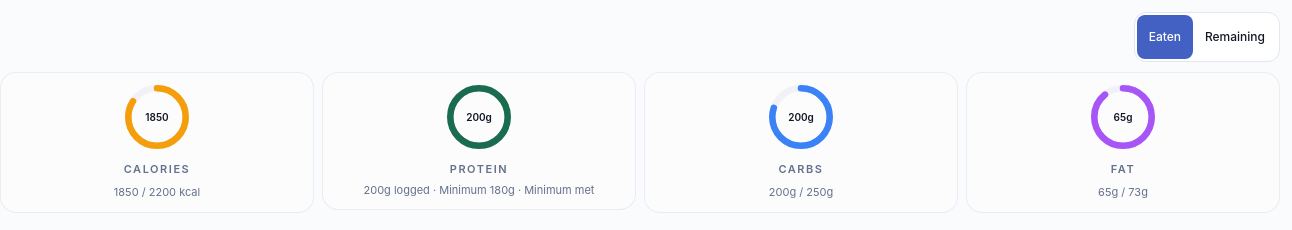
Test: MacroRings › keeps protein neutral at and above its floor
Click the button "Remaining" at [1235, 37], box x1=1193 y1=15 x2=1277 y2=59
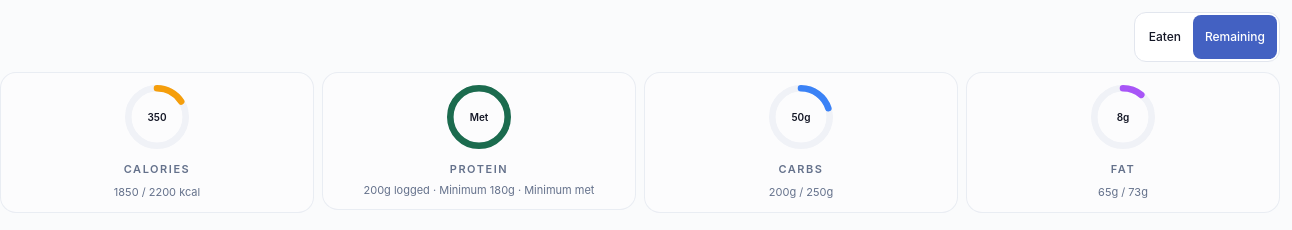
expect the text "Protein" shows "Minimum met": met, box x1=364 y1=182 x2=594 y2=196
expect the text "Met" is shown: met, box x1=470 y1=111 x2=488 y2=123
